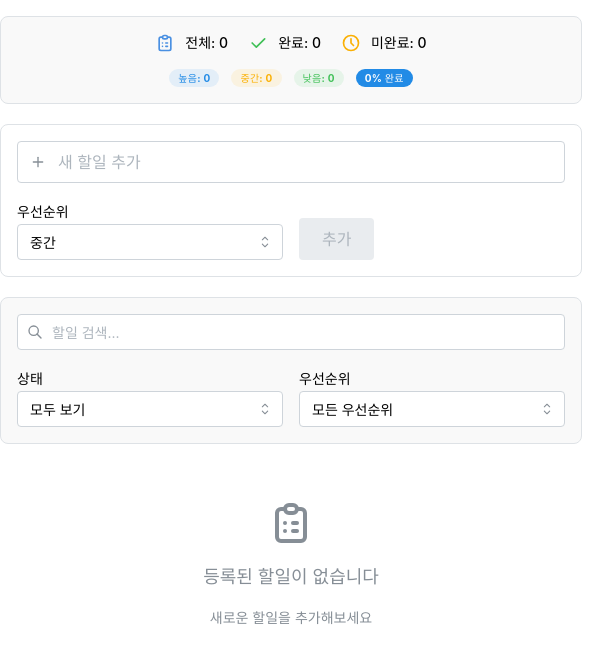
Test: Todo 통합 테스트 › 통계 정보가 올바르게 업데이트되어야 함
Check: the text "전체: 0" is shown, box [185, 33, 228, 53]
Check: the text "완료: 0" is shown, box [278, 33, 321, 53]
Type "테스트 할일 1" into the field with placeholder "새 할일 추가" at point(291, 162), box [17, 141, 565, 183]
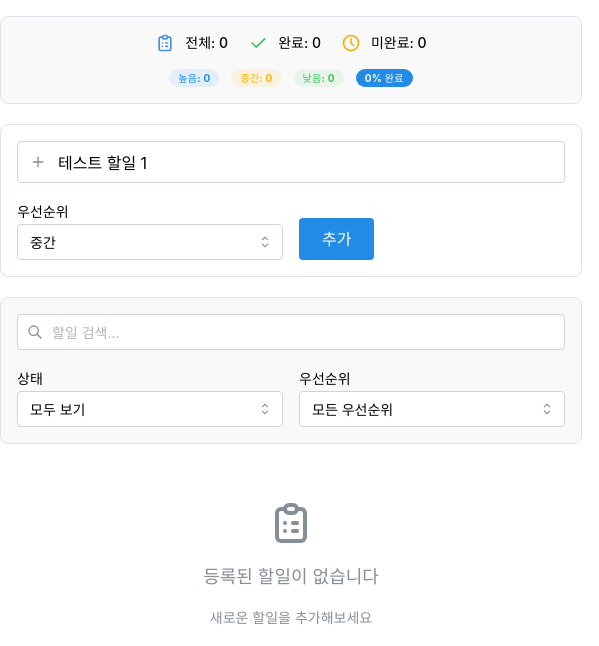
Click the button "추가" at point(337, 239), box [299, 218, 374, 260]
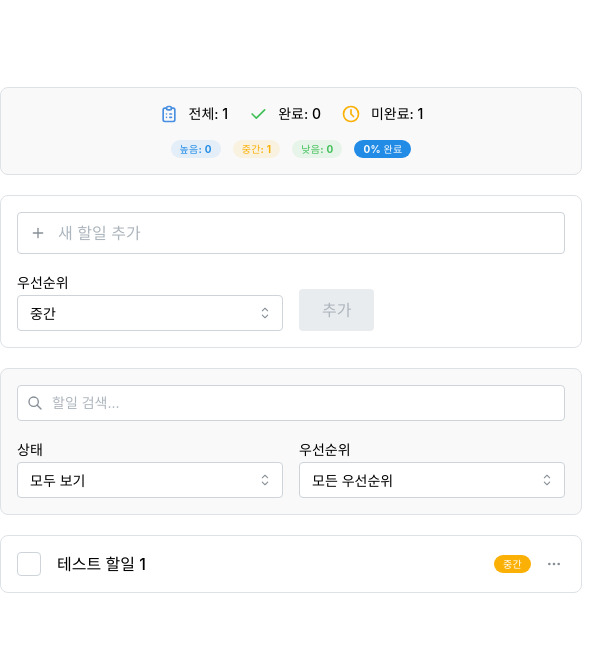
Type "테스트 할일 2" into the field with placeholder "새 할일 추가" at point(291, 233), box [17, 212, 565, 254]
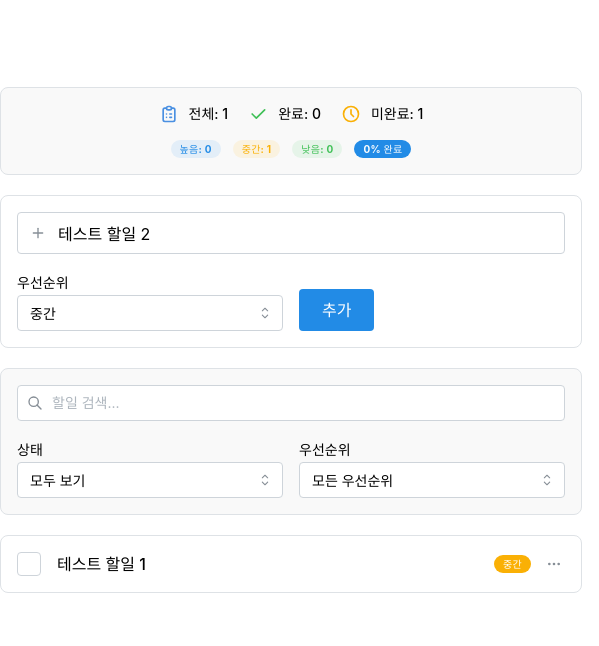
Click the button "추가" at point(337, 310), box [299, 289, 374, 331]
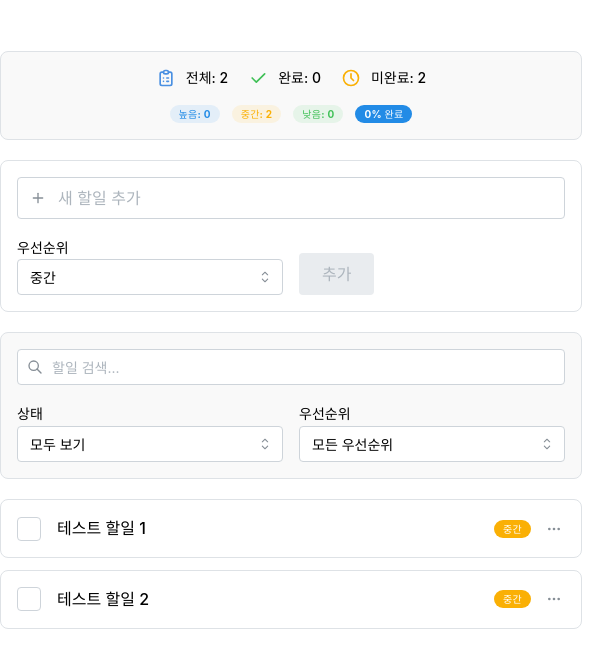
Check: the text "완료: 0" is shown, box [278, 68, 321, 89]
Check: the text "전체: 2" is shown, box [186, 68, 228, 89]
Check: the text "미완료: 2" is shown, box [371, 68, 426, 89]
# 하나 완료 처리
Click the checkbox named "테스트 할일 1 완료 상태 토글" at point(29, 528), box [17, 516, 41, 540]
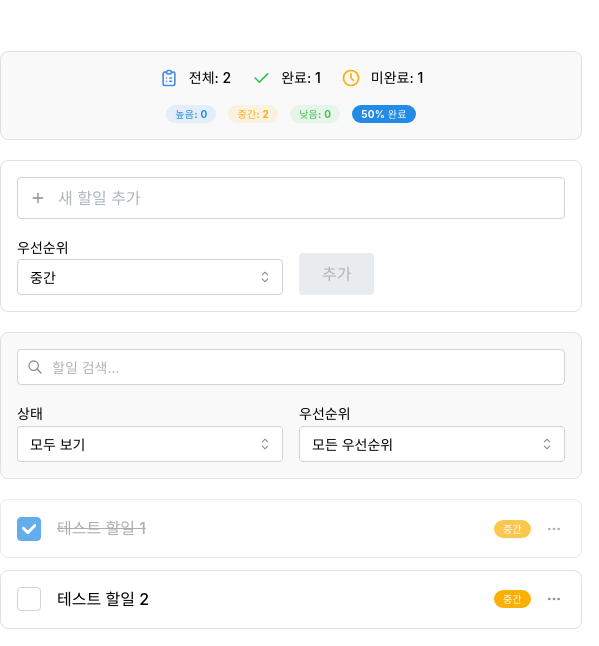
Check: the text "전체: 2" is shown, box [189, 68, 231, 89]
Check: the text "완료: 1" is shown, box [281, 68, 321, 89]
Check: the text "미완료: 1" is shown, box [371, 68, 423, 89]
